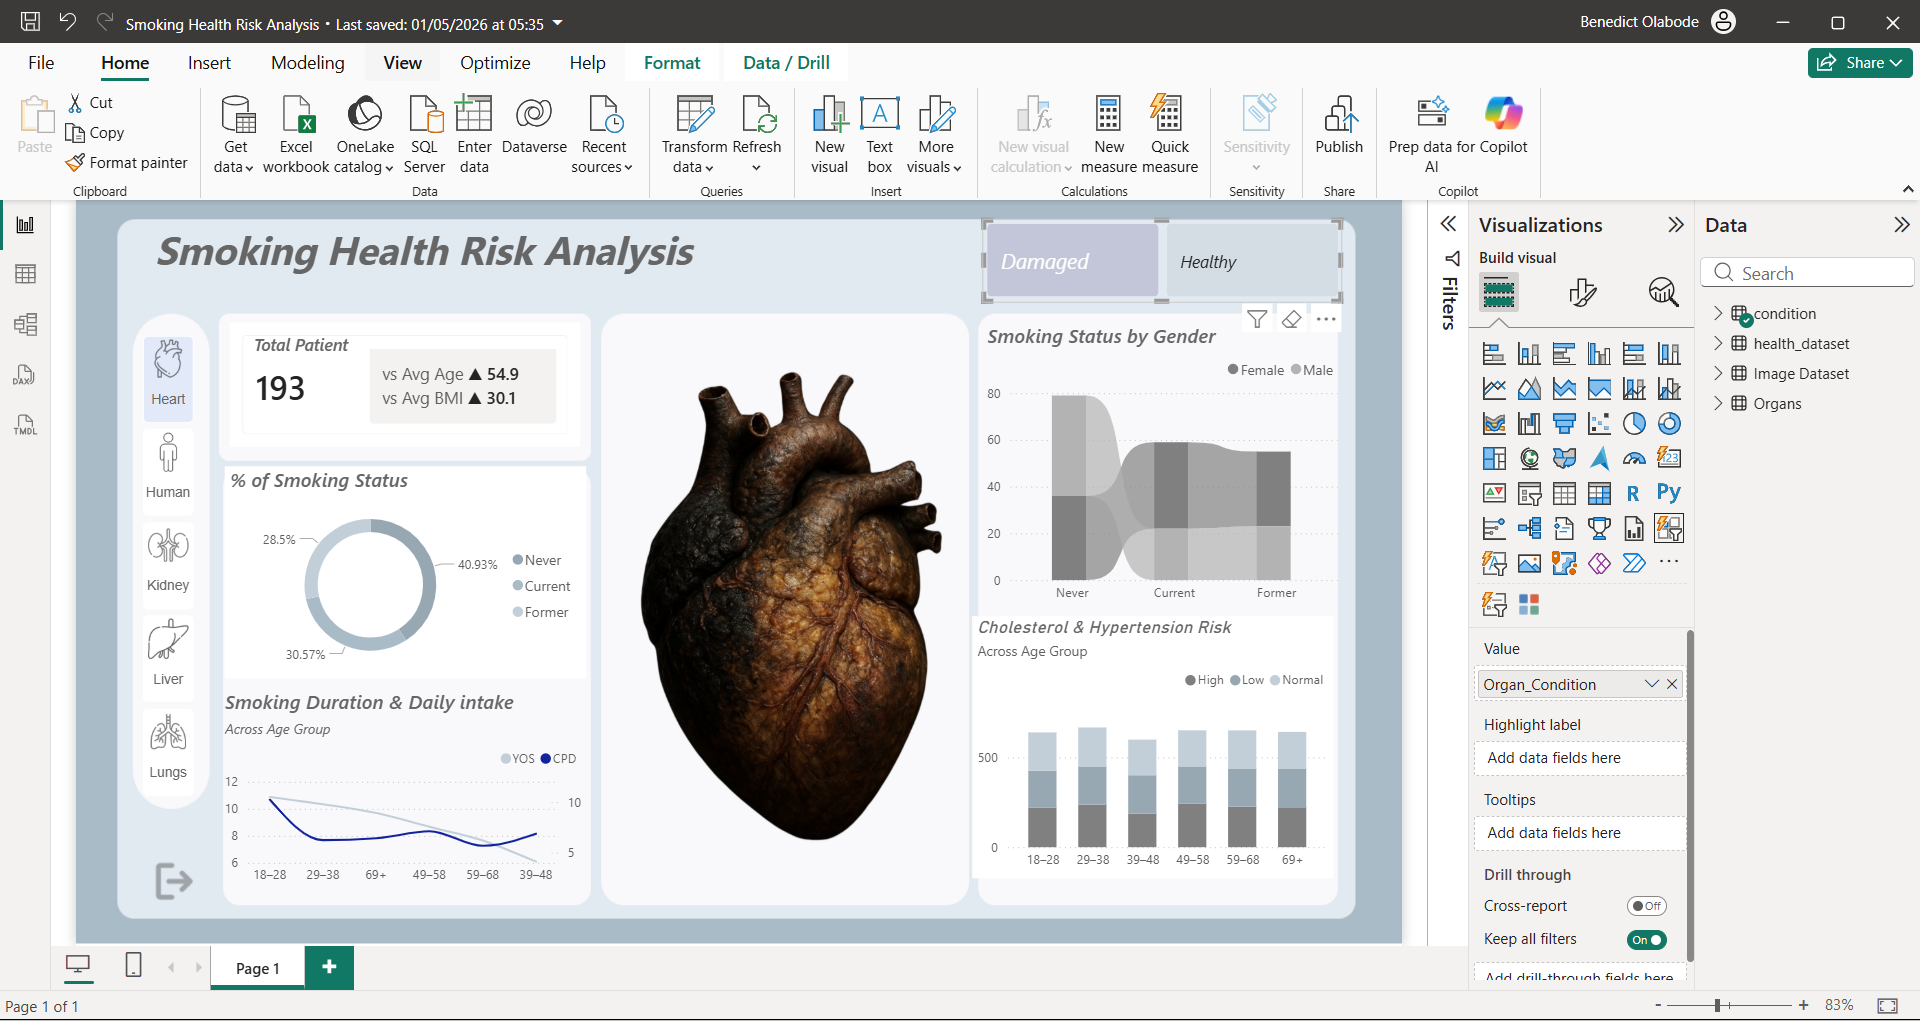

The dashboard page shown, as its layout file describes it:
{"tool":"powerbi","page":{"name":"Page 1","canvas":[1280,720],"ordinal":0},"visuals":[{"type":"cardVisual","fields":{"Data":["CountNonNull(health_dataset.Patient_ID)"]},"box":[144.1,113.9,348.5,130.4],"z":0},{"type":"textbox","box":[166,123.5,199,41.2],"z":1000},{"type":"advancedSlicerVisual","fields":{"Values":["condition.Organ_Condition"]},"box":[874.1,17.8,348.5,81],"z":2000},{"type":"ChicletSlicer1448559807354","fields":{"Category":["Organs.Organ"],"Image":["Organs.Icon_URL"]},"box":[56.3,123.5,109.8,496.7],"z":3000},{"type":"image","box":[516.4,119.4,348.7,556.2],"z":4000},{"type":"donutChart","title":"% of Smoking Status","fields":{"Category":["health_dataset.Smoking_Status"],"Y":["CountNonNull(health_dataset.Smoking_Status)"]},"box":[144.1,256.6,348.5,204.5],"z":5000},{"type":"lineChart","title":"Smoking Duration & Daily intake","fields":{"Category":["health_dataset.Age Group"],"Y":["Avg(health_dataset.Years_of_Smoking)"],"Y2":["Avg(health_dataset.Cigarettes_Per_Day)"]},"box":[138.6,472,354,197.6],"z":6000},{"type":"ribbonChart","title":"Smoking Status by Gender","fields":{"Category":["health_dataset.Smoking_Status"],"Y":["CountNonNull(health_dataset.Patient_ID)"],"Series":["health_dataset.Gender"]},"box":[874.1,118,348.5,278.6],"z":7000},{"type":"columnChart","title":"Cholesterol & Hypertension Risk ","fields":{"Category":["health_dataset.Age Group"],"Y":["Avg(health_dataset.Cholesterol_Level)"],"Series":["health_dataset.BP_Risk"]},"box":[864.5,402.1,348.5,252.5],"z":8000},{"type":"textbox","box":[71.4,17.8,551.6,74.1],"z":9000}]}

Visuals, with their boxes on the page's 1280x720 design canvas (x1, y1, x2, y2). These are canvas units, not pixel positions in the 1920x1021 screenshot, which may show the page scaled, cropped or inside an application window:
cardVisual - CountNonNull(health_dataset.Patient_ID): region(144, 114, 493, 244)
textbox: region(166, 124, 365, 165)
advancedSlicerVisual - condition.Organ_Condition: region(874, 18, 1223, 99)
ChicletSlicer1448559807354 - Organs.Organ x Organs.Icon_URL: region(56, 124, 166, 620)
image: region(516, 119, 865, 676)
"% of Smoking Status" donutChart: region(144, 257, 493, 461)
"Smoking Duration & Daily intake" lineChart: region(139, 472, 493, 670)
"Smoking Status by Gender" ribbonChart: region(874, 118, 1223, 397)
"Cholesterol & Hypertension Risk " columnChart: region(864, 402, 1213, 655)
textbox: region(71, 18, 623, 92)
